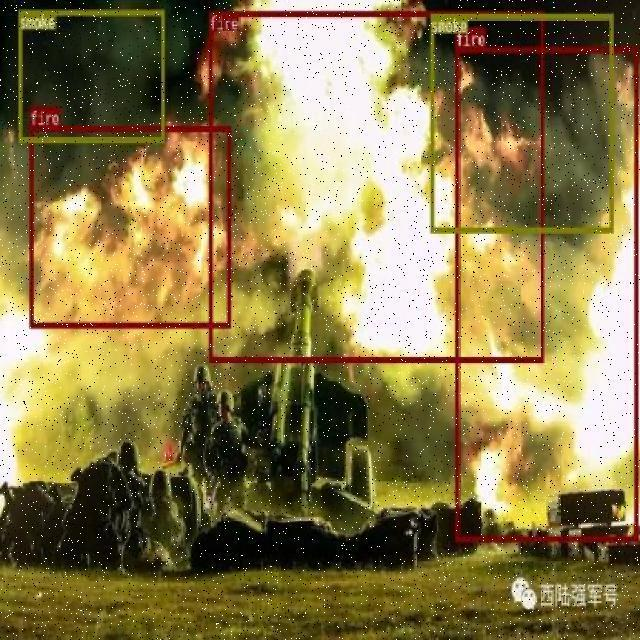Smoke: (463, 13, 579, 232), (53, 42, 128, 110)
